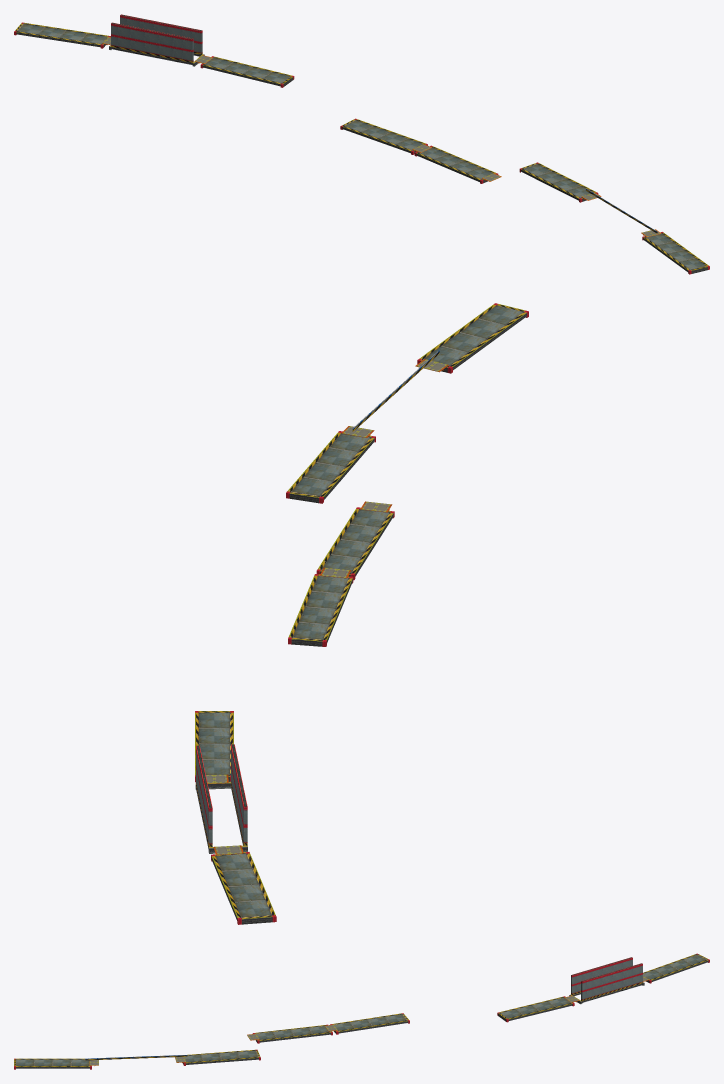
The model's file is Bullet Station 49.fbx.
3 renders of one model, top to bottom at view 1: azimuth 30°, elevation 25°; view 2: azimuth 150°, elevation 25°; view 3: azimuth 270°, elevation 25°, orthographic. The views are drawn at different scales.
Visible parts, largest first — view 1: STG08_ONS_15; view 2: STG08_ONS_15; view 3: STG08_ONS_15.
Boxes of the visible parts, x1,y1,x2,y2 form: STG08_ONS_15: (14,14,709,274); STG08_ONS_15: (195,303,528,924); STG08_ONS_15: (14,953,709,1069).
Bounding box in the file's own units: 137494 × 12500 × 356715.
